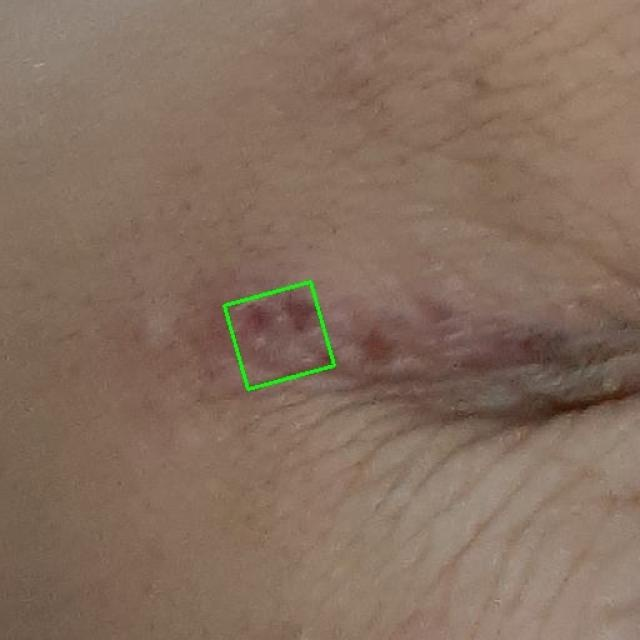Scabies: (225, 282, 334, 390)
